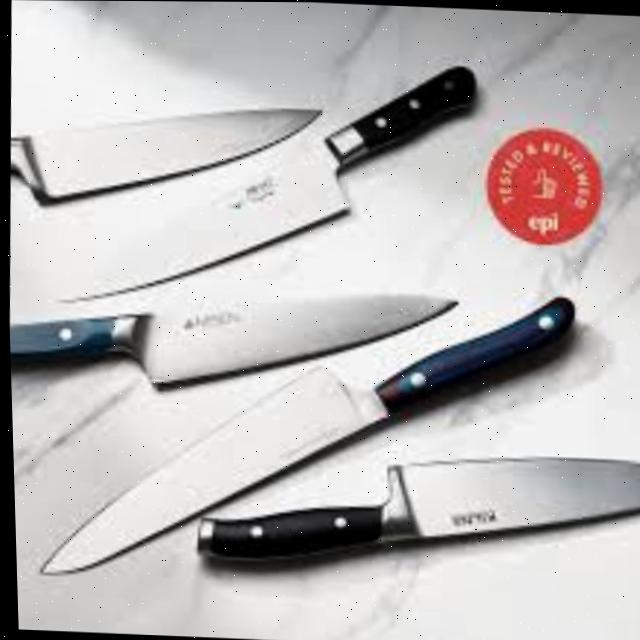Knife: (27, 273, 579, 593), (2, 44, 482, 339), (188, 439, 640, 576), (6, 270, 458, 399), (7, 91, 324, 214)
